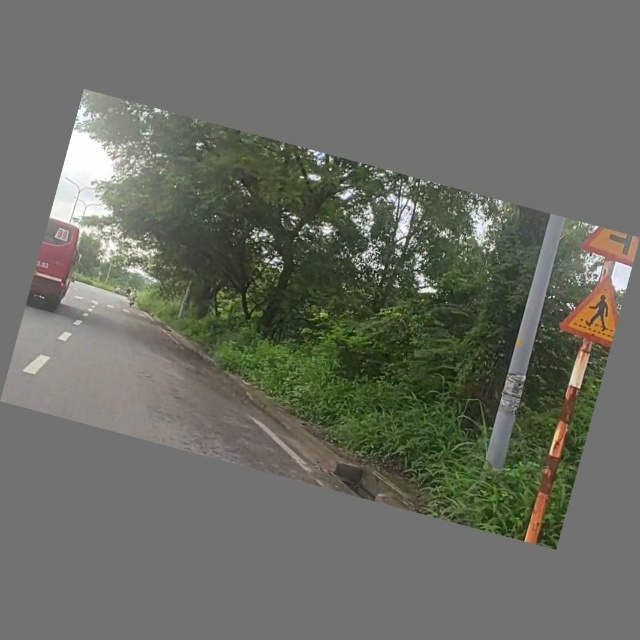W.205c: (577, 224, 640, 266)
W.224: (557, 269, 628, 349)
